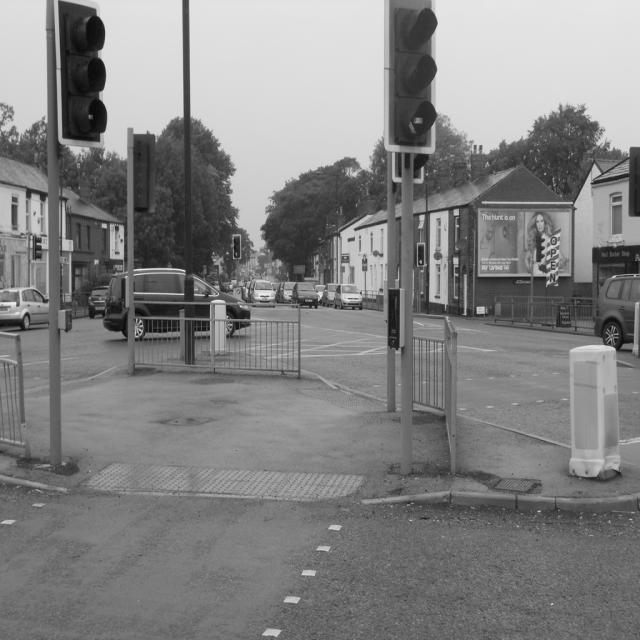off traffic light: (386, 0, 440, 141), (57, 0, 108, 139), (32, 234, 43, 261)
